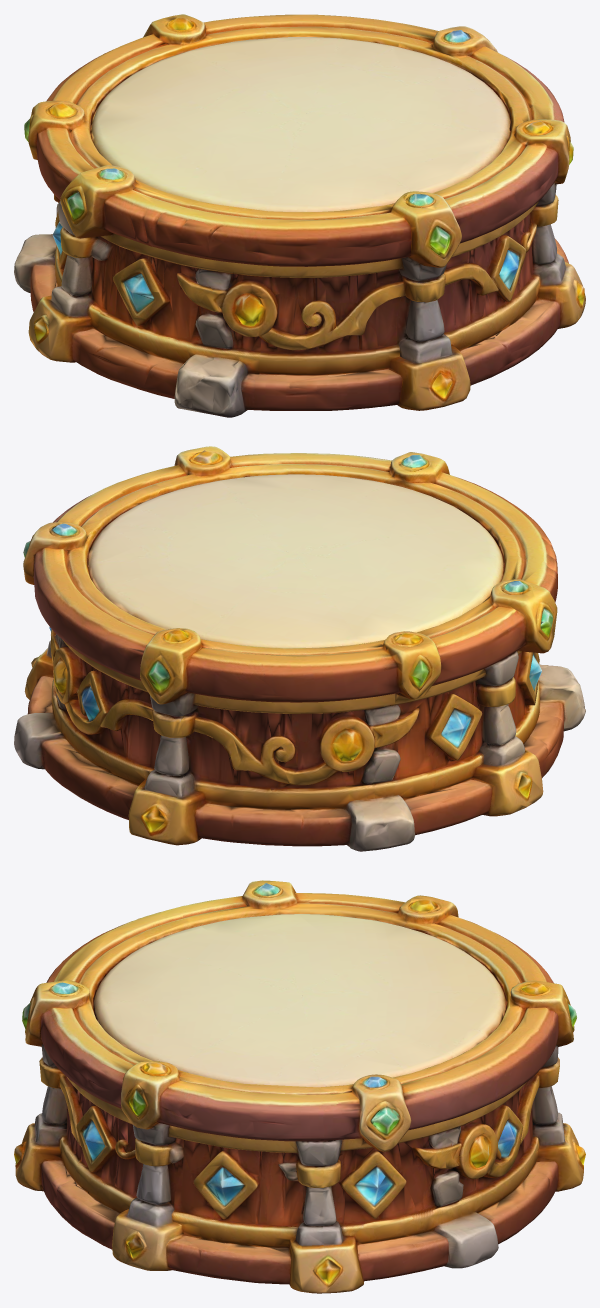
File: platform_ahsap.glb
3 renders of one model, top to bottom at view 1: azimuth 30°, elevation 25°; view 2: azimuth 150°, elevation 25°; view 3: azimuth 270°, elevation 25°, orthographic.
Visible parts, largest first — view 1: tripo_node_87e92d60-aa01-4844-8958-72f008b165bd; view 2: tripo_node_87e92d60-aa01-4844-8958-72f008b165bd; view 3: tripo_node_87e92d60-aa01-4844-8958-72f008b165bd.
Boxes of the visible parts, bbox=[...] form: tripo_node_87e92d60-aa01-4844-8958-72f008b165bd: bbox=[14, 14, 585, 417]; tripo_node_87e92d60-aa01-4844-8958-72f008b165bd: bbox=[14, 446, 585, 851]; tripo_node_87e92d60-aa01-4844-8958-72f008b165bd: bbox=[14, 880, 585, 1293].
Bounding box in the file's own units: 0.9775 × 0.3655 × 0.9814.
1 material, 1 textured.
